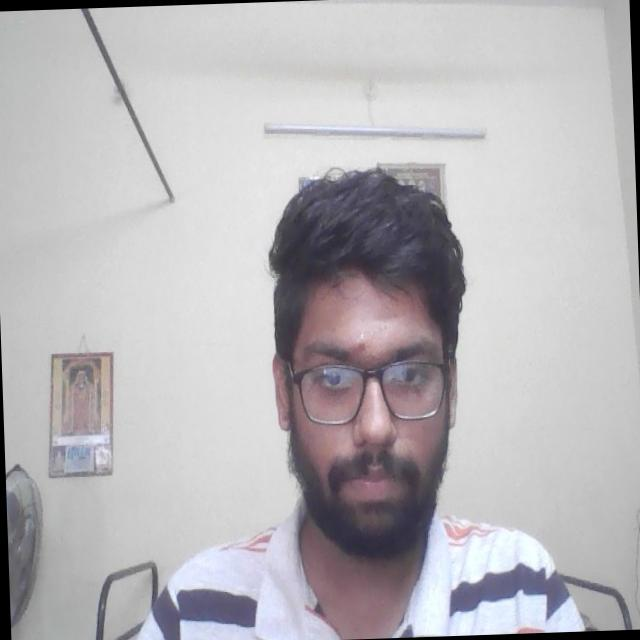Focused: (278, 273, 474, 532)
